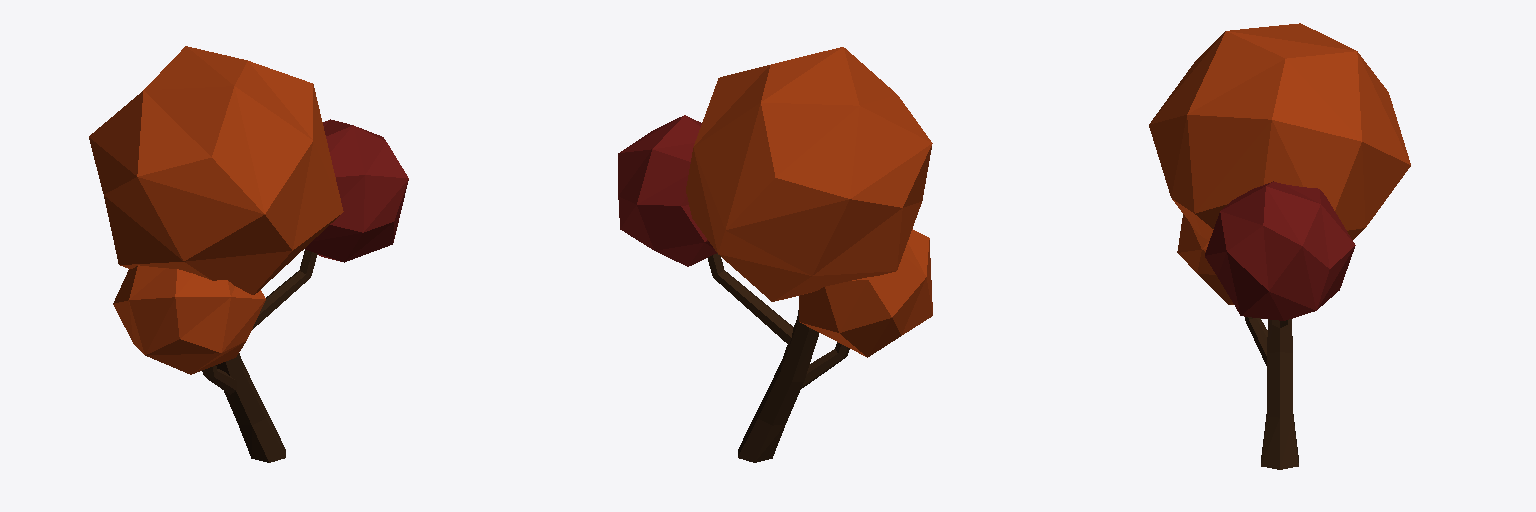
File: Tree.obj
The picture shows the model from 3 angles: view 1: azimuth 30°, elevation 25°; view 2: azimuth 150°, elevation 25°; view 3: azimuth 270°, elevation 25°; orthographic projection.
Parts seen in each view (by area): view 1: pCylinder730_Albero01_Mat_0, pCylinder730_Albero02_Mat1_0, pCylinder730_Legno01_Mat_0; view 2: pCylinder730_Albero01_Mat_0, pCylinder730_Albero02_Mat1_0, pCylinder730_Legno01_Mat_0; view 3: pCylinder730_Albero01_Mat_0, pCylinder730_Albero02_Mat1_0, pCylinder730_Legno01_Mat_0.
Part boxes in pixels (x1,y1,x2,y2): pCylinder730_Albero01_Mat_0: (89, 46, 343, 374); pCylinder730_Albero02_Mat1_0: (305, 119, 408, 262); pCylinder730_Legno01_Mat_0: (202, 250, 317, 462); pCylinder730_Albero01_Mat_0: (686, 47, 932, 357); pCylinder730_Albero02_Mat1_0: (618, 115, 716, 266); pCylinder730_Legno01_Mat_0: (708, 253, 849, 462); pCylinder730_Albero01_Mat_0: (1149, 23, 1410, 304); pCylinder730_Albero02_Mat1_0: (1205, 181, 1355, 320); pCylinder730_Legno01_Mat_0: (1245, 317, 1298, 469).
Size of the model in its own units: 0.1242 by 0.1666 by 0.0984.